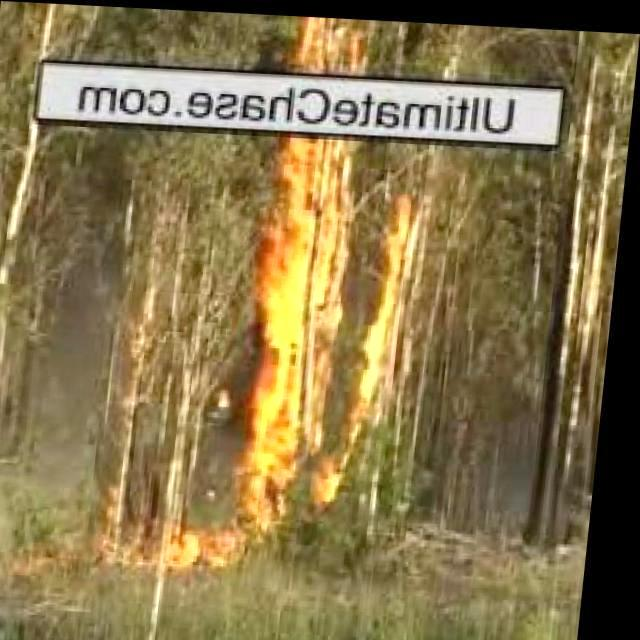fire: (246, 183, 436, 514), (287, 13, 359, 187), (157, 516, 281, 578)
